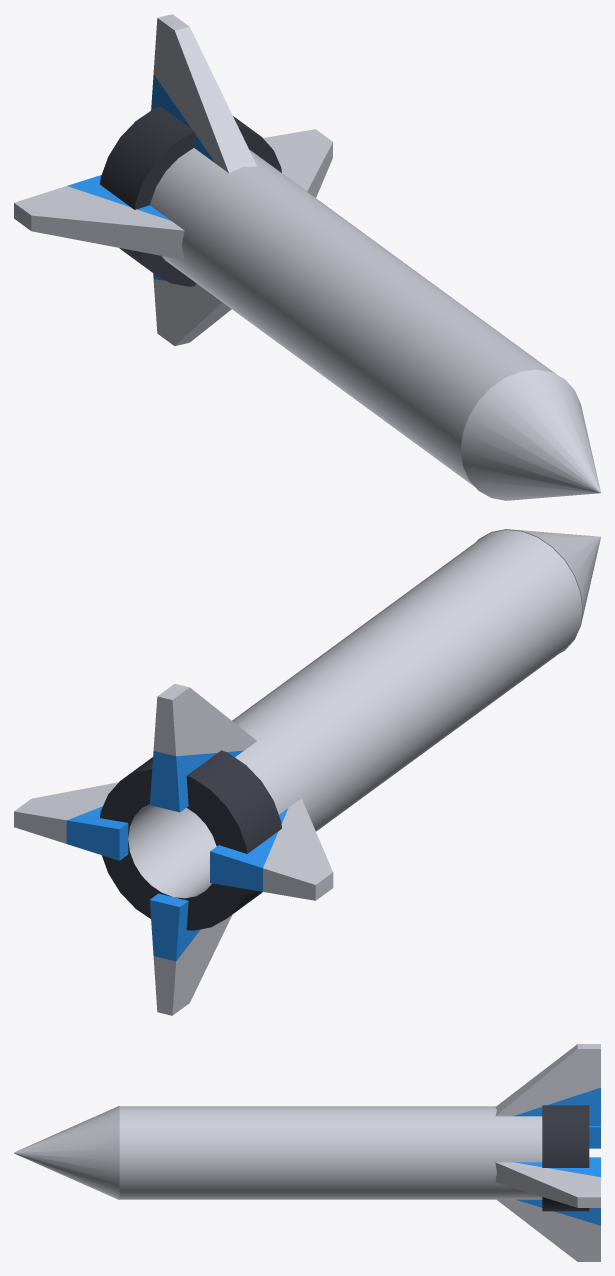
Rendered from Rocket.fbx.
3 views of the same model, one above another, from view 1: azimuth 30°, elevation 25°; view 2: azimuth 150°, elevation 25°; view 3: azimuth 270°, elevation 25° (orthographic). The views are drawn at different scales.
Parts seen in each view (by area): view 1: pipe_large, rudder (×4), cone; view 2: pipe_large, rudder (×4), cone; view 3: pipe_large, rudder (×3), cone.
Boxes of the visible parts, bbox=[...] form: pipe_large: bbox=[100, 106, 556, 487]; rudder (×4): bbox=[14, 14, 332, 345]; cone: bbox=[461, 369, 600, 500]; pipe_large: bbox=[100, 530, 582, 930]; rudder (×4): bbox=[14, 684, 333, 1015]; cone: bbox=[476, 529, 600, 652]; pipe_large: bbox=[119, 1105, 589, 1211]; rudder (×3): bbox=[495, 1044, 600, 1261]; cone: bbox=[14, 1106, 119, 1199].
Bounding box in the file's own units: 20 × 20 × 50.
